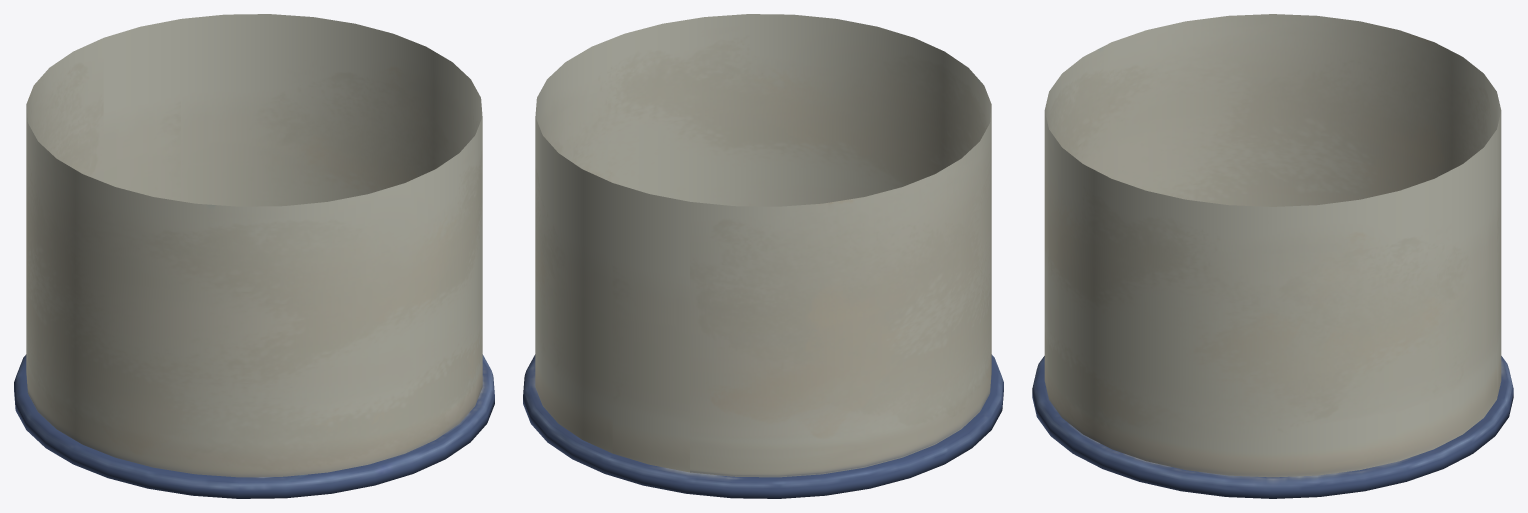
Rendered from SiloPiece.fbx.
3 views of the same model, side by side, from view 1: azimuth 30°, elevation 25°; view 2: azimuth 150°, elevation 25°; view 3: azimuth 270°, elevation 25° (orthographic).
Parts seen in each view (by area): view 1: SiloPiece; view 2: SiloPiece; view 3: SiloPiece.
Boxes of the visible parts, left/top/right/bottom form: SiloPiece: left=14, top=14, right=494, bottom=498; SiloPiece: left=523, top=14, right=1003, bottom=498; SiloPiece: left=1032, top=14, right=1513, bottom=498.
Size of the model in its own units: 14.93 by 9.81 by 14.93.
1 material, 1 textured.
